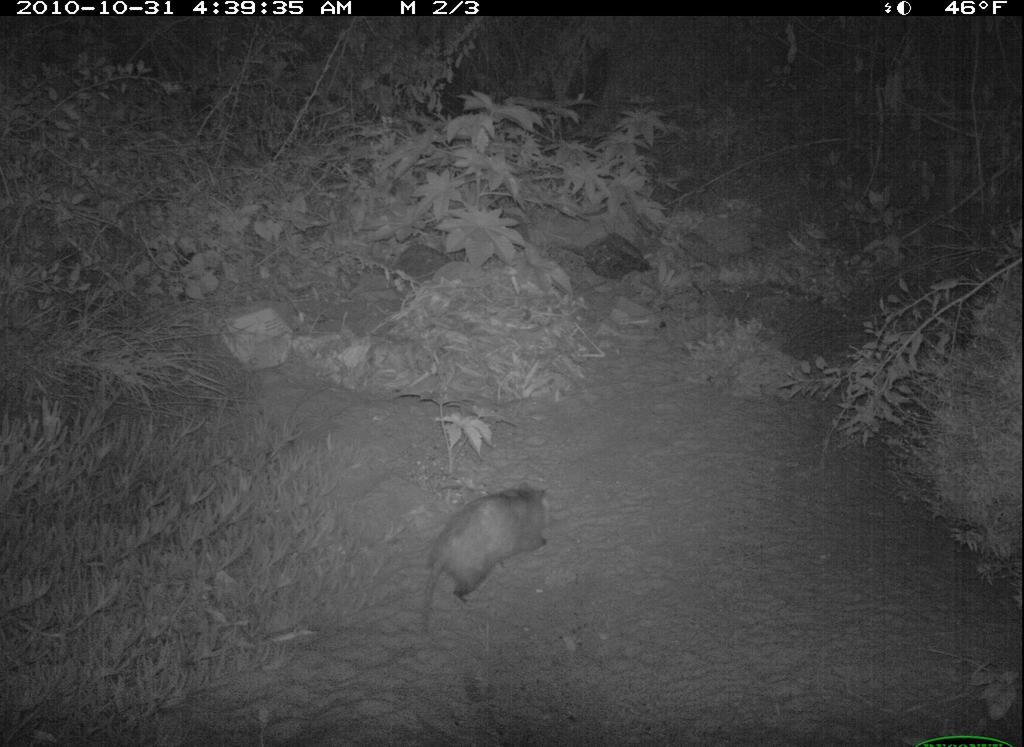opossum: (399, 468, 564, 658)
